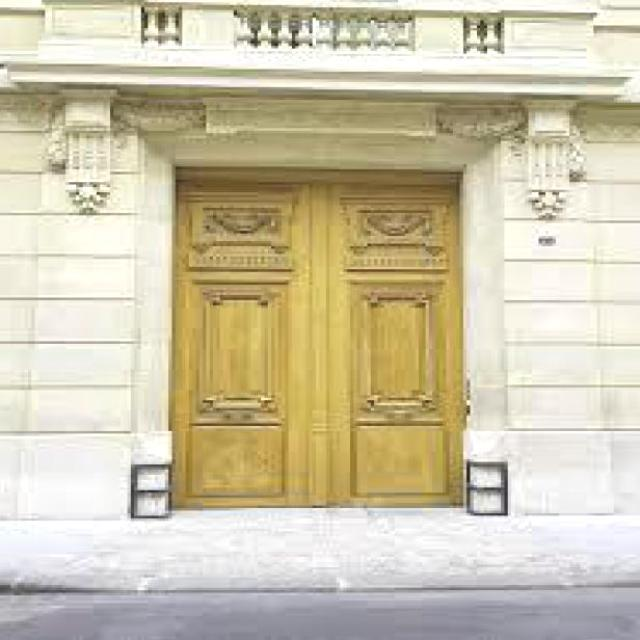door: (316, 171, 466, 508), (170, 170, 318, 510)
